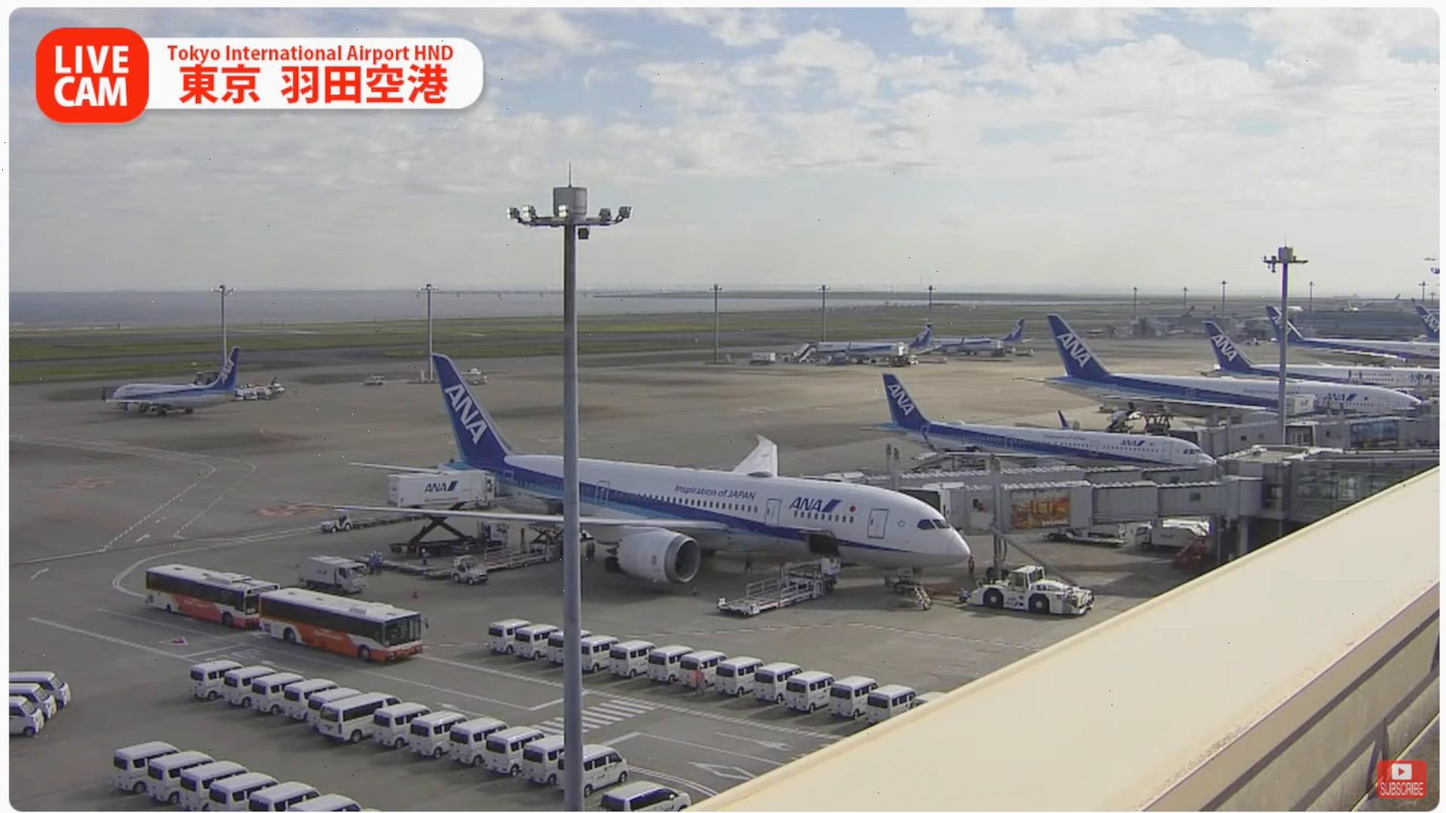APS: (969, 564, 1106, 619)
Aerobridge: (899, 476, 1264, 540), (843, 457, 1217, 496)
Airplane: (330, 354, 973, 599)
Baggage truck: (296, 552, 373, 597)
Catering: (386, 468, 506, 560)
Dolly: (363, 552, 452, 578), (352, 506, 426, 530)
JCPL: (717, 553, 843, 617), (450, 522, 565, 575)
Tractor: (449, 553, 491, 584), (320, 507, 354, 536)
Window: (1290, 456, 1440, 523)
